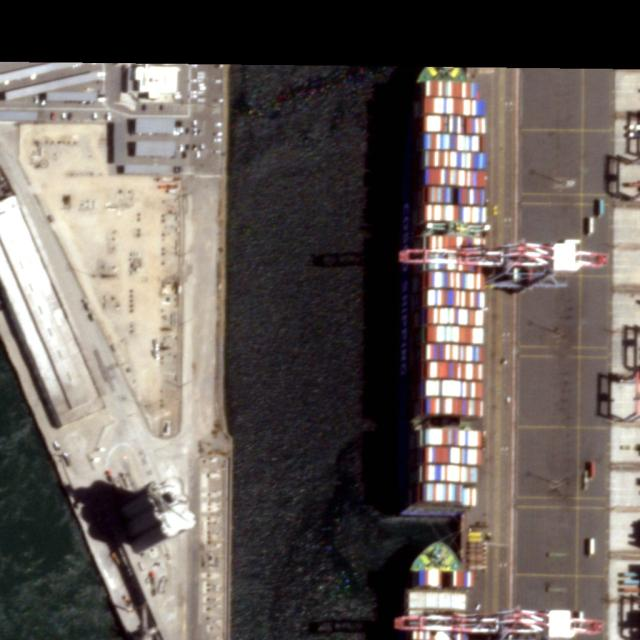boats: (419, 68, 485, 515)
crane: (386, 245, 601, 283)
